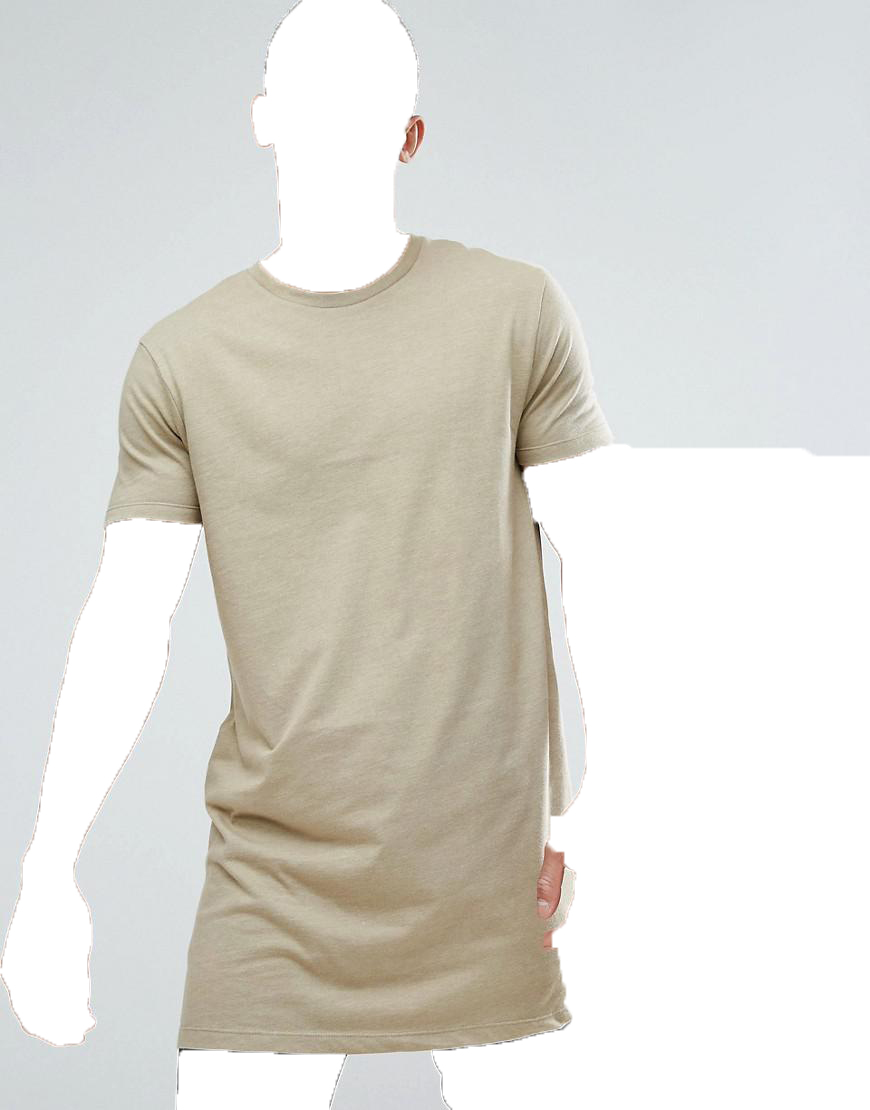teeshirt: (93, 230, 654, 1073)
